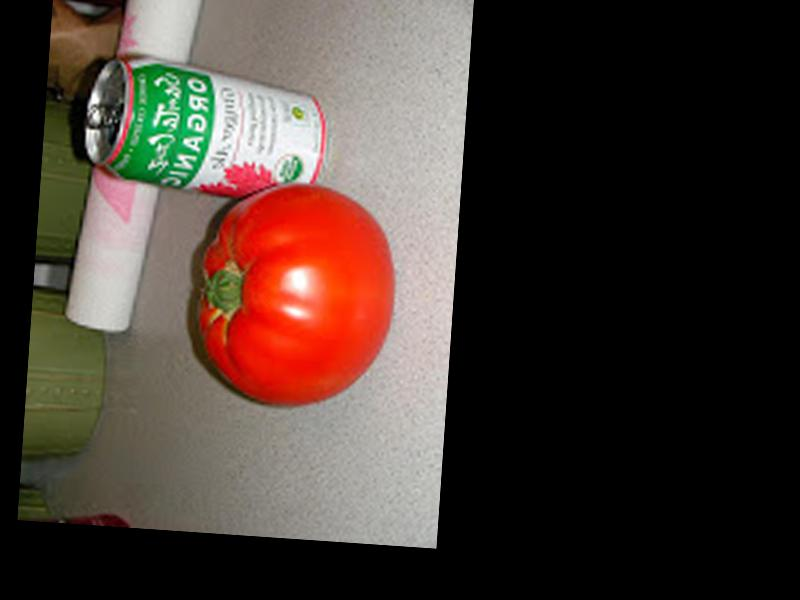Tomato: (194, 179, 399, 410)
